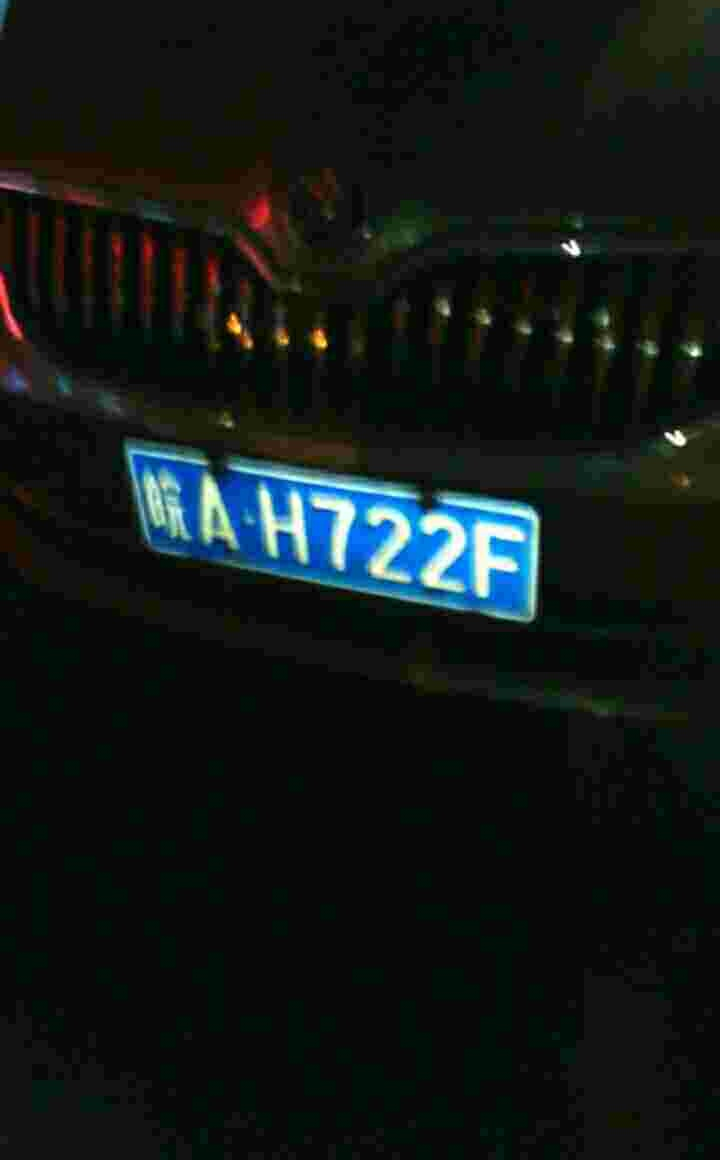license_plate: (135, 459, 540, 612)
